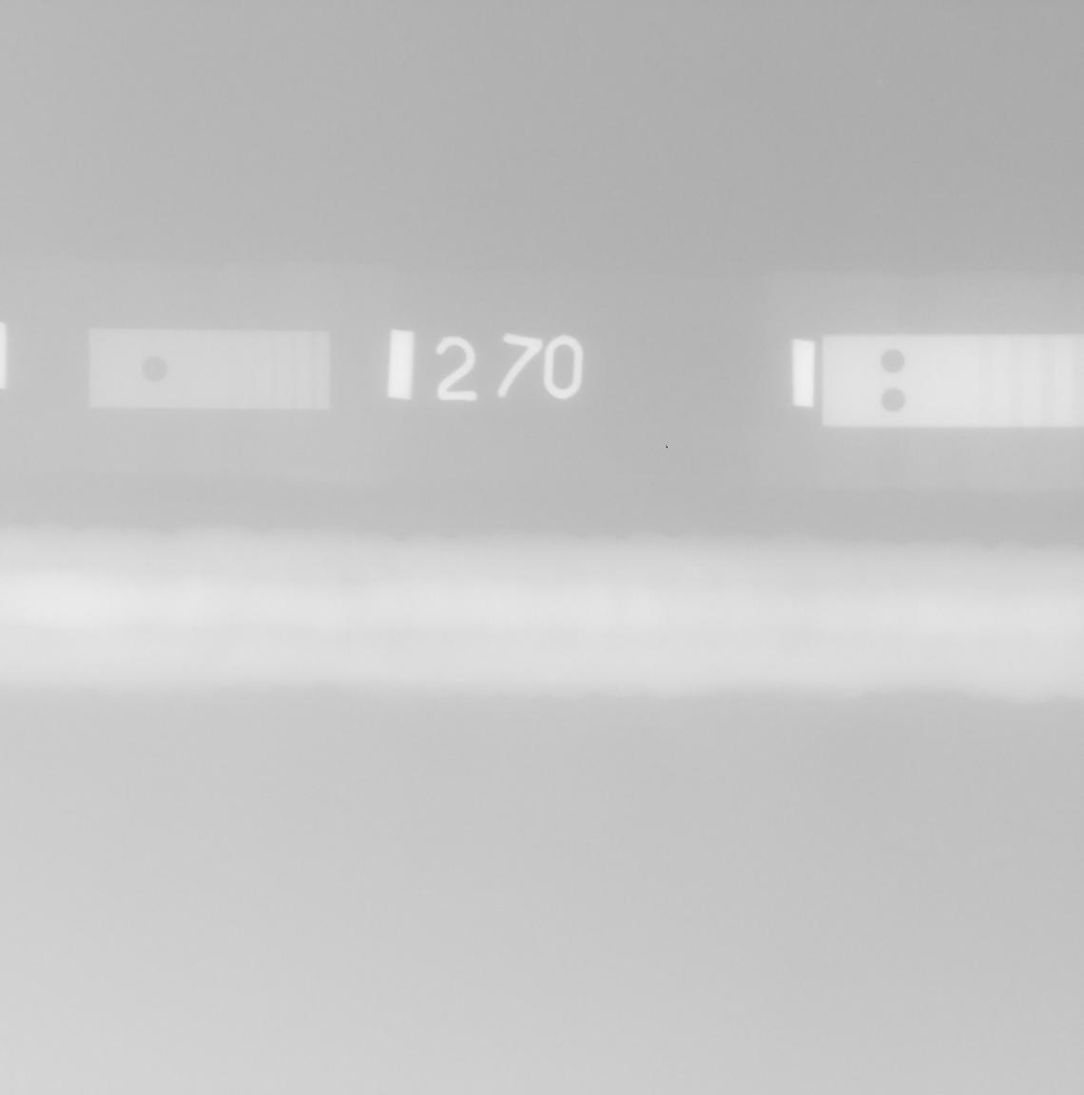Reference Standard 1: (88, 327, 332, 411)
